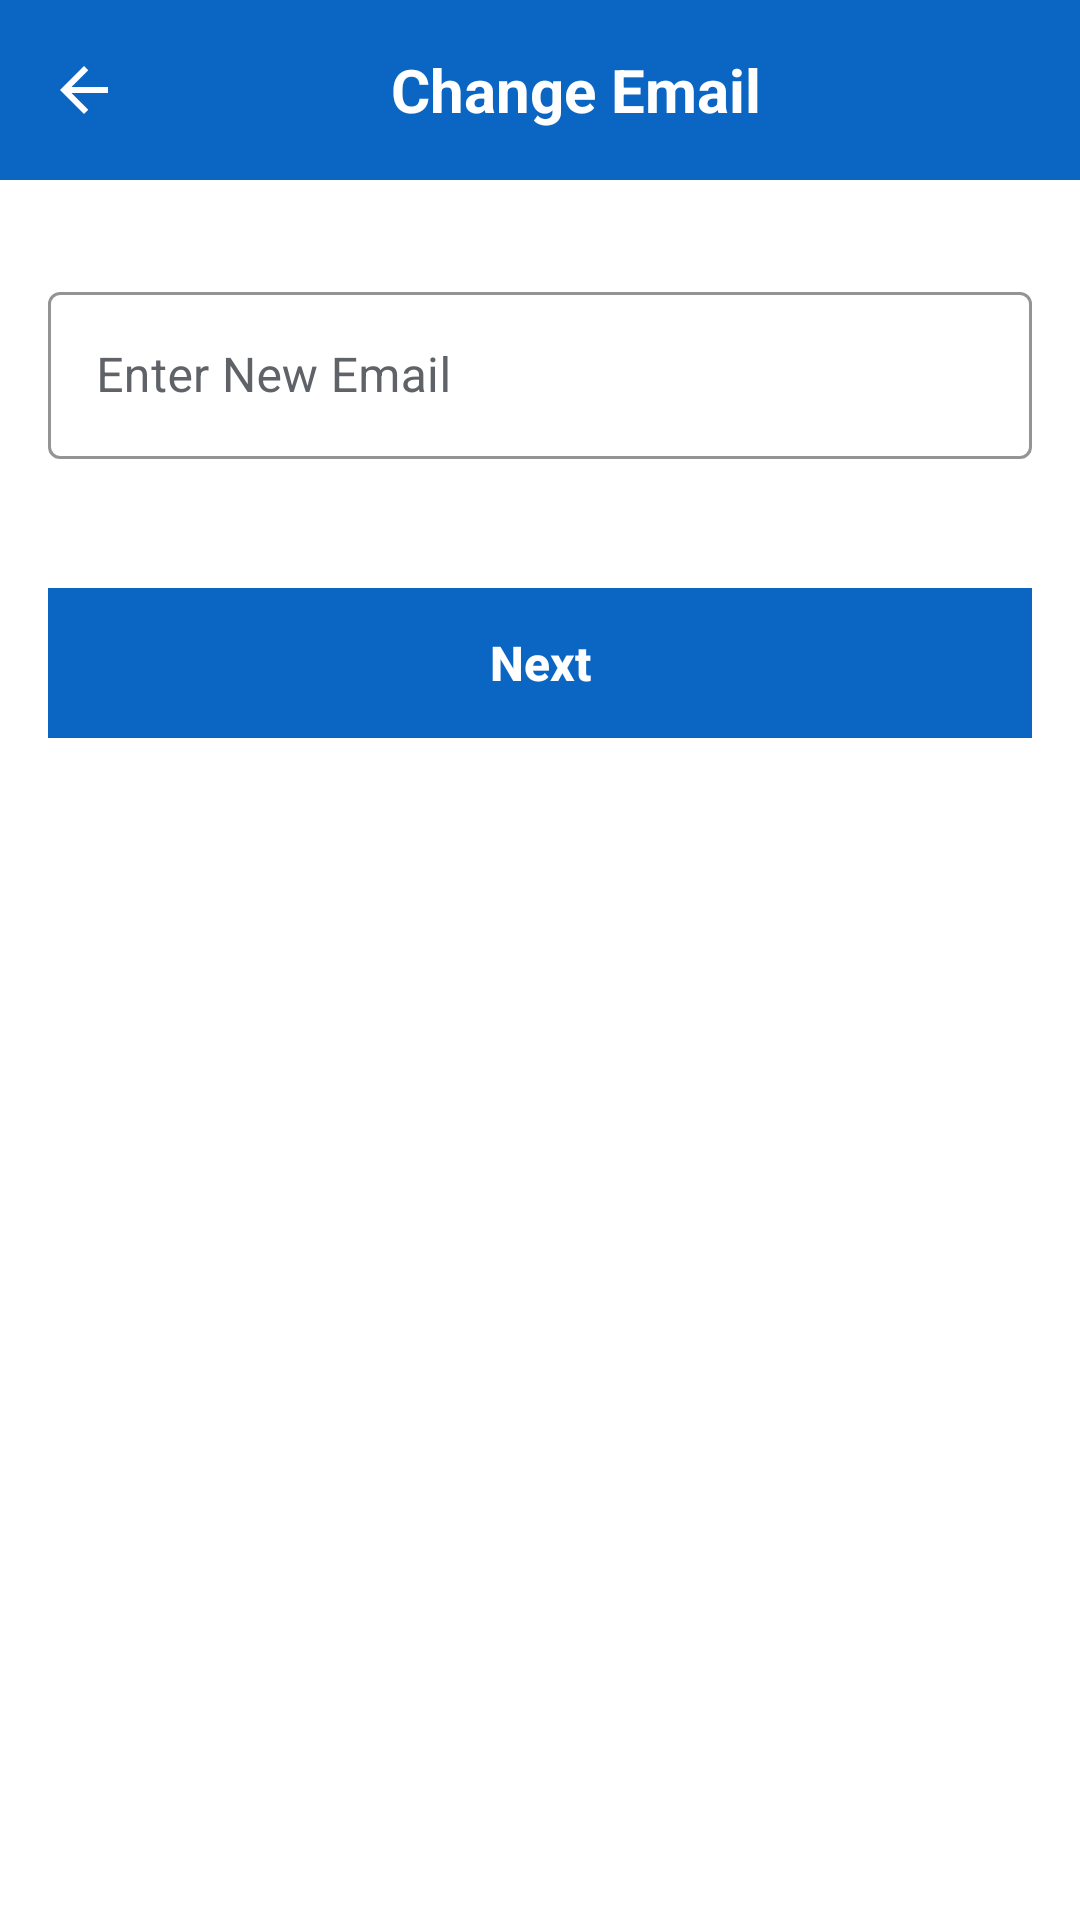

Locate icon controls on the screen. Image size 1080x1920, boxes as (x1, y1, x2, y2).
Back: (60, 66, 108, 114)
